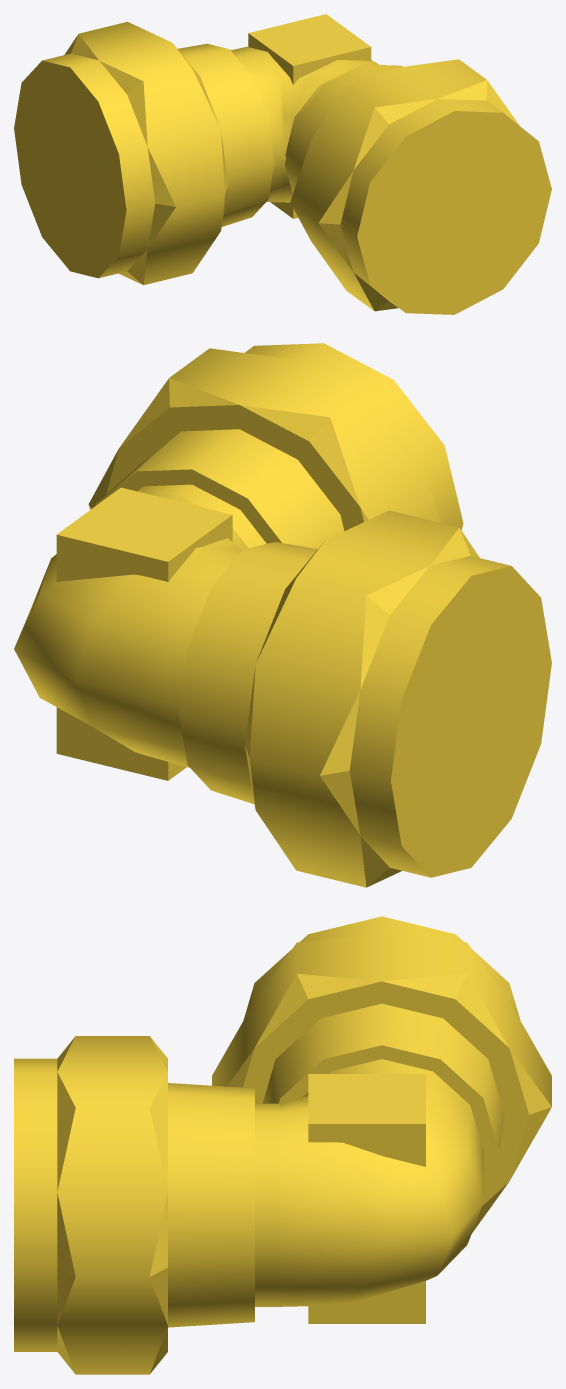
File: COP_D30_X2.FBX
The picture shows the model from 3 angles, top to bottom: view 1: azimuth 30°, elevation 25°; view 2: azimuth 150°, elevation 25°; view 3: azimuth 270°, elevation 25°; orthographic projection. The views are drawn at different scales.
Parts seen in each view (by area): view 1: COP_D30_X2; view 2: COP_D30_X2; view 3: COP_D30_X2.
Part boxes in pixels (left/top/right/bottom): COP_D30_X2: left=14, top=14, right=551, bottom=314; COP_D30_X2: left=14, top=343, right=551, bottom=887; COP_D30_X2: left=14, top=916, right=551, bottom=1374.
Bounding box in the file's own units: 7.31 × 4 × 7.31.
